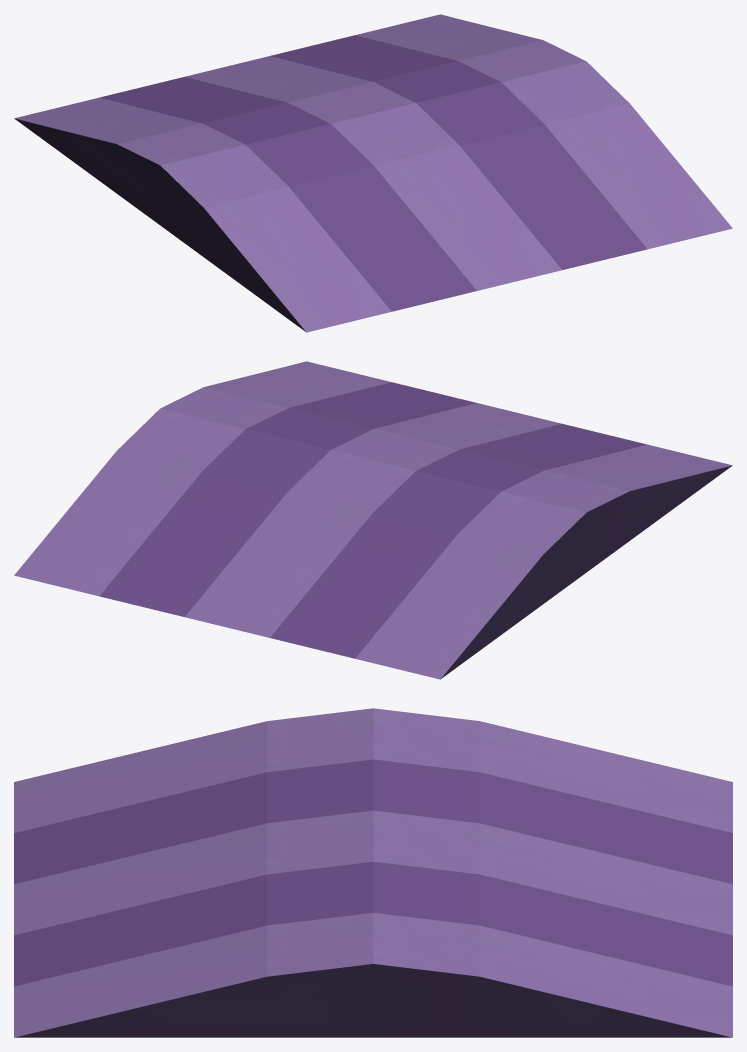
3 views of the same model, one above another, from view 1: azimuth 30°, elevation 25°; view 2: azimuth 150°, elevation 25°; view 3: azimuth 270°, elevation 25° (orthographic). The views are drawn at different scales.
Parts seen in each view (by area): view 1: Cube_012; view 2: Cube_012; view 3: Cube_012.
Part boxes in pixels (bbox=[...]): Cube_012: bbox=[14, 14, 732, 332]; Cube_012: bbox=[14, 361, 732, 679]; Cube_012: bbox=[14, 708, 732, 1037].
Bounding box in the file's own units: 24 × 3.23 × 28.53.
